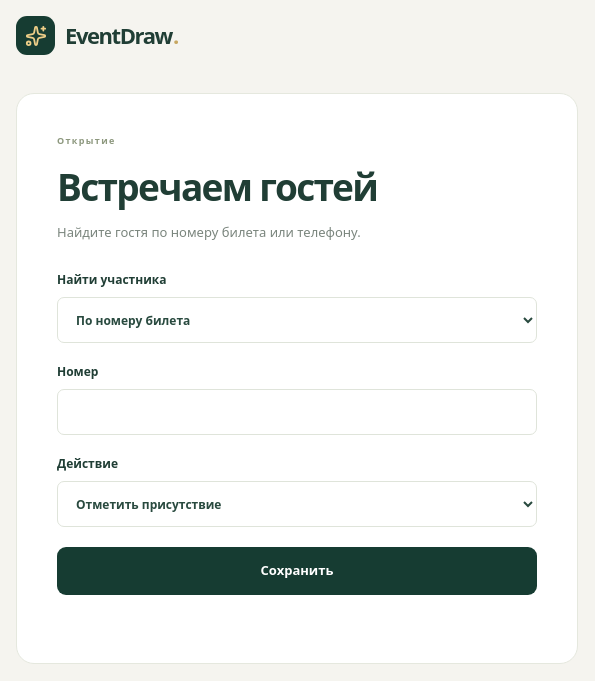
Test case: staff check-in › locks the form while a request is pending
Type "57" into the number field labelled "Номер" at (297, 412), box [57,390,537,436]
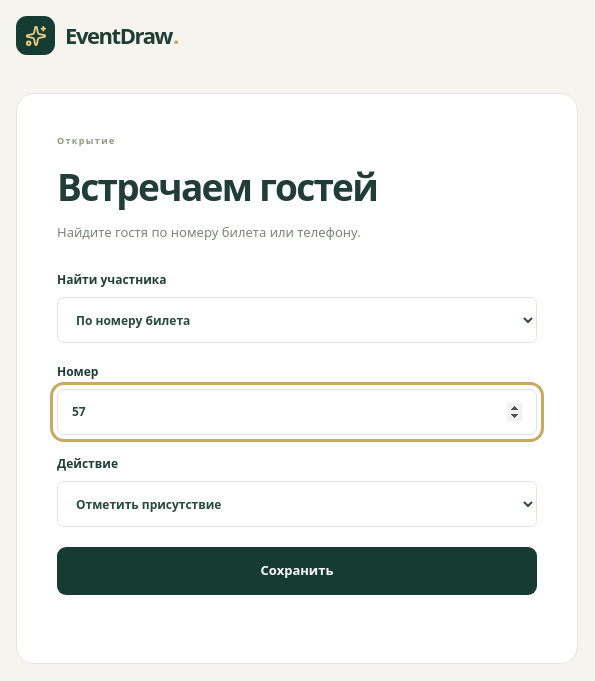
Click the button "Сохранить" at (297, 571), box [57,548,537,595]
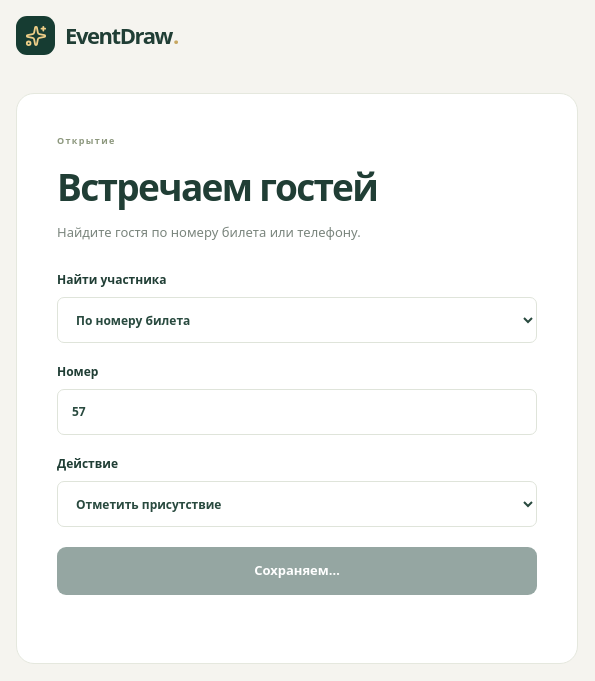
Check: the dropdown labelled "Действие" is disabled, box [57,482,537,528]
Check: the number field labelled "Номер" is disabled, box [57,390,537,436]
Check: the button "Сохраняем…" is disabled, box [57,548,537,595]
